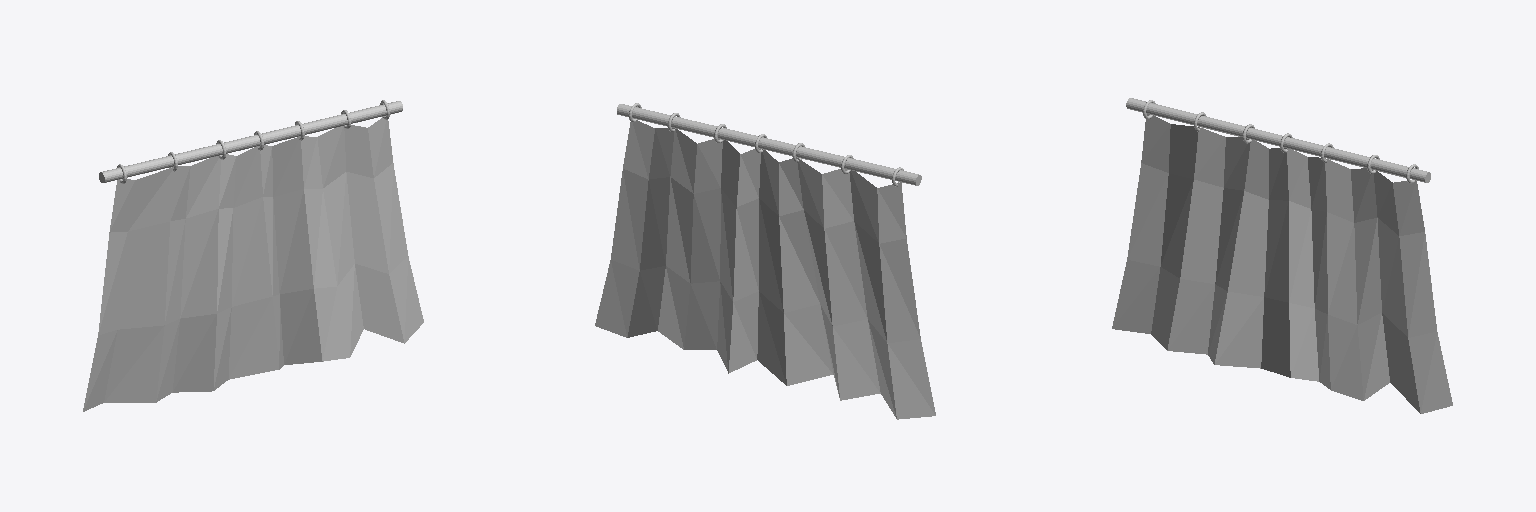
Rendered from cortina.obj.
3 renders of one model, left to right at view 1: azimuth 30°, elevation 25°; view 2: azimuth 150°, elevation 25°; view 3: azimuth 330°, elevation 25°, orthographic.
Parts seen in each view (by area): view 1: cortina:pTorus8; view 2: cortina:pTorus8; view 3: cortina:pTorus8.
Part boxes in pixels (x1,y1,x2,y2): cortina:pTorus8: (83, 100, 423, 411); cortina:pTorus8: (595, 103, 935, 419); cortina:pTorus8: (1112, 98, 1452, 413).
Size of the model in its own units: 24.5 by 16.69 by 2.86.